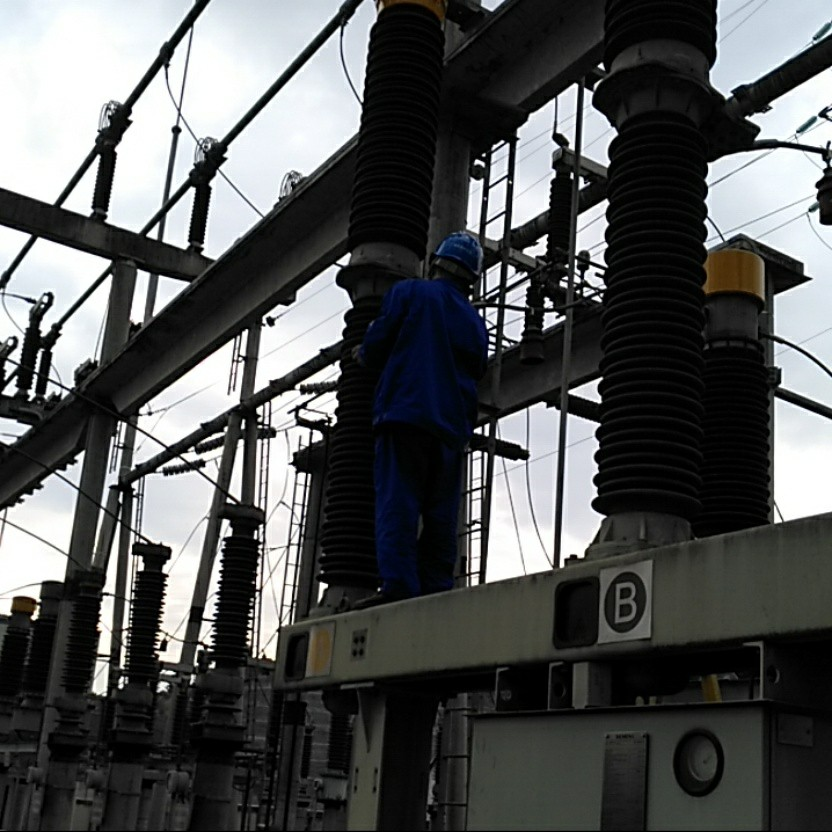hat: (426, 229, 488, 294)
